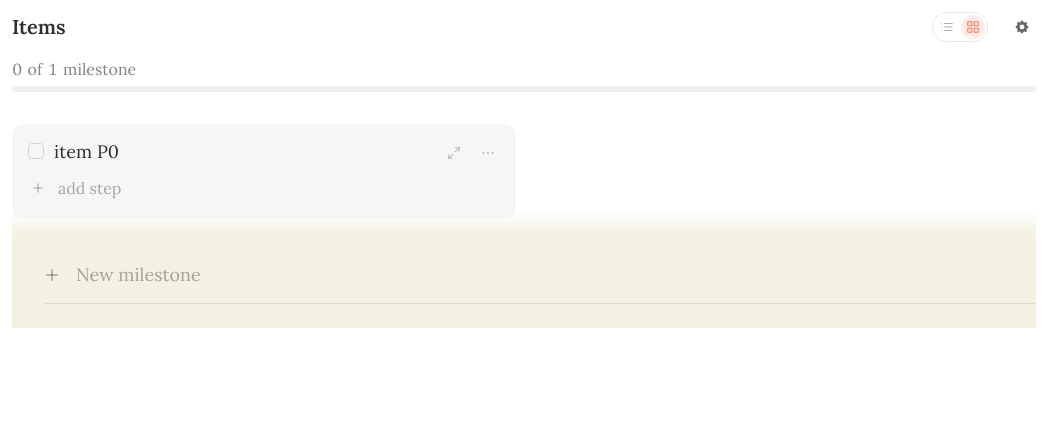
Test: Todo settings — as a member › should show who is on the plan with no controls
expect the text "item P0" is shown: met, box [54,140,119,163]
Click the button titled "Settings".
click(1022, 27)  # box [1008,13,1036,41]
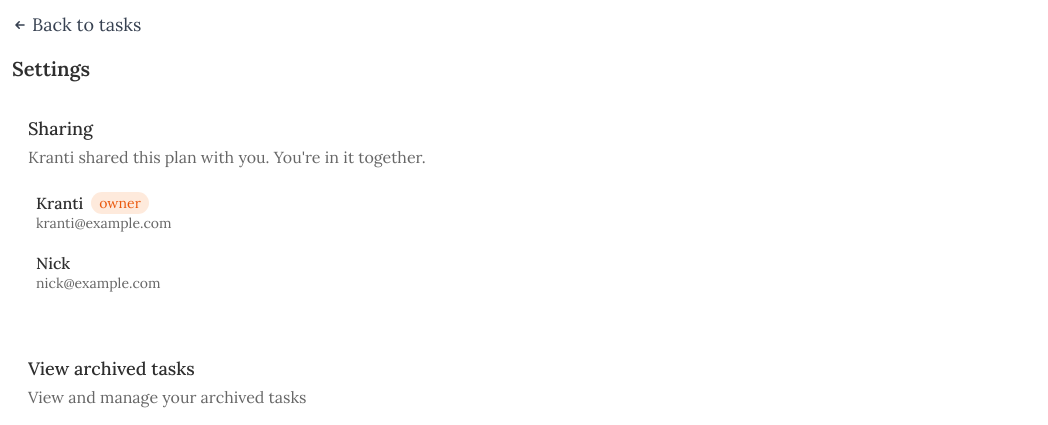
expect the text "Nick" is shown: met, box [36,252,70,274]
expect the heading "Sharing" is shown: met, box [28,117,93,140]
expect the text "owner" is shown: met, box [91,192,149,214]
